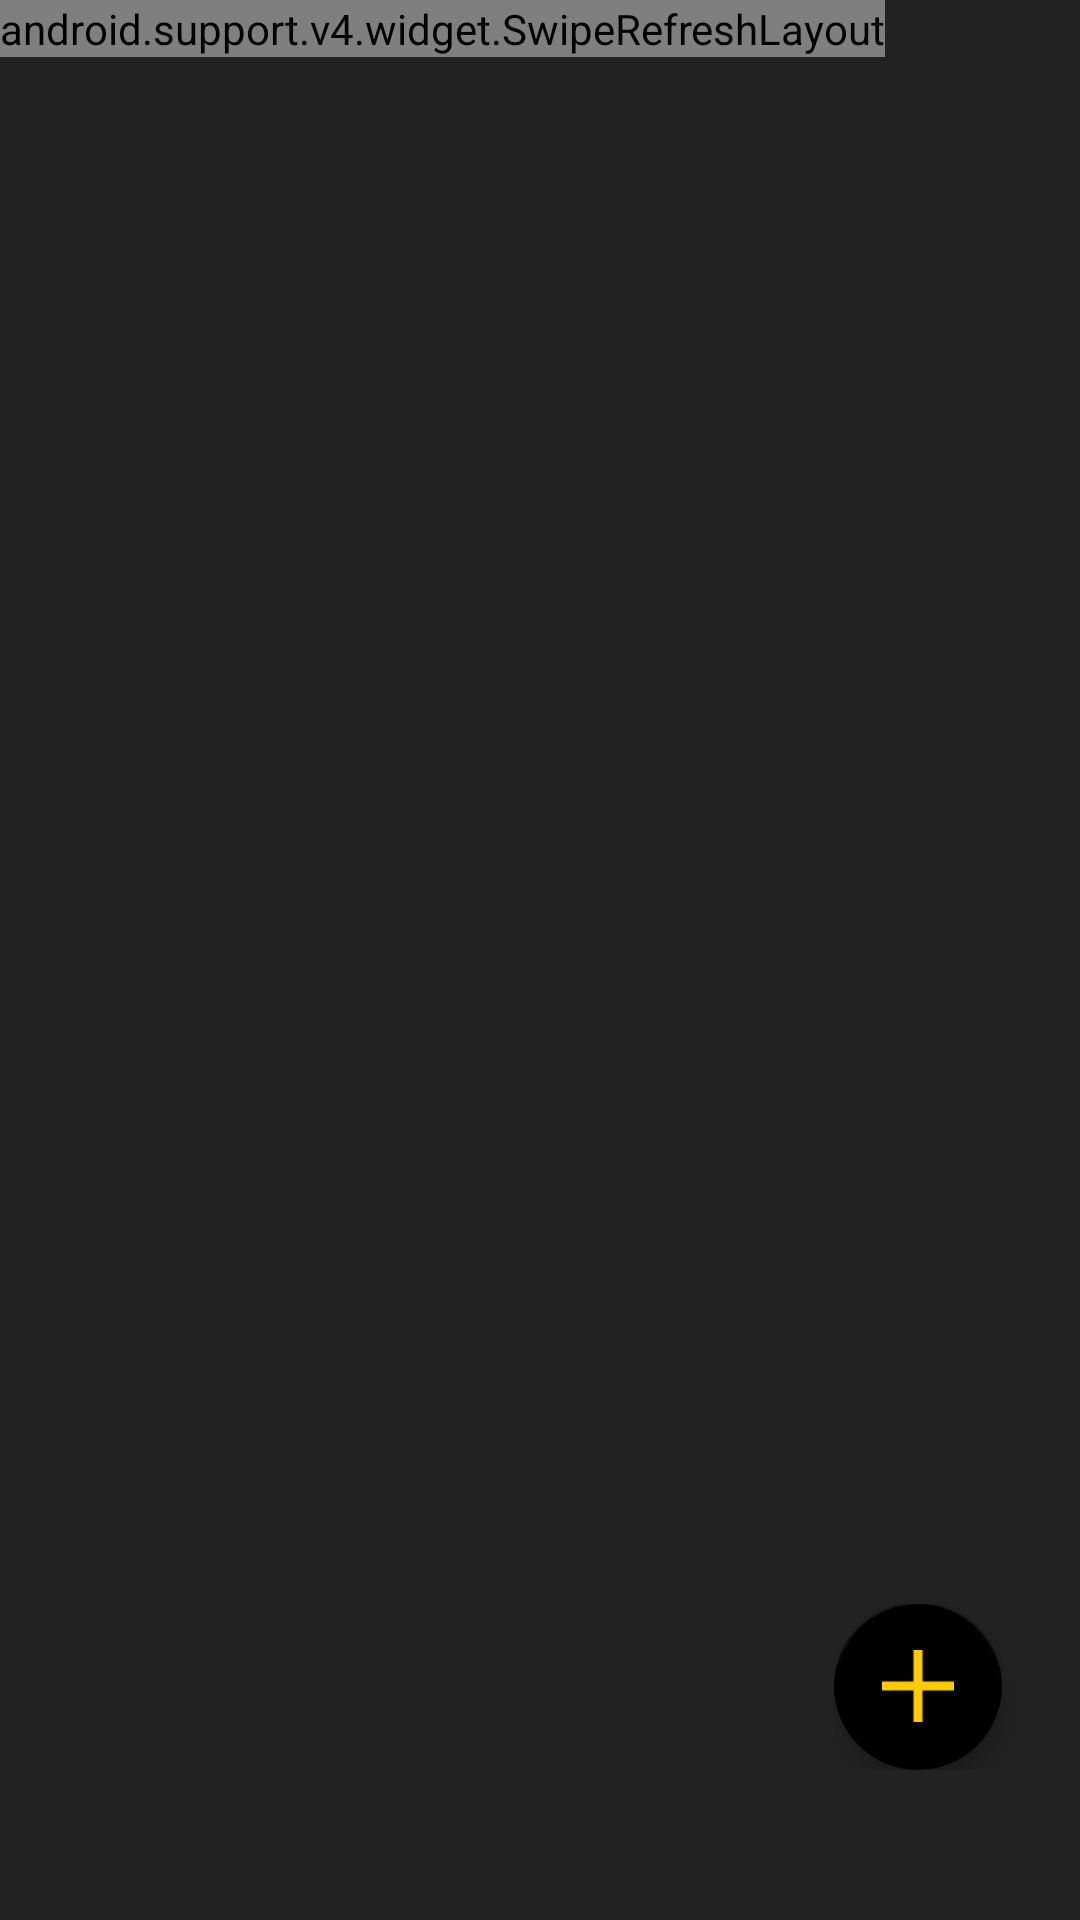

Where to tap for icons on this 1080px x 1920px app screen, as (x=x, y=y):
add activity: (x=918, y=1687)
